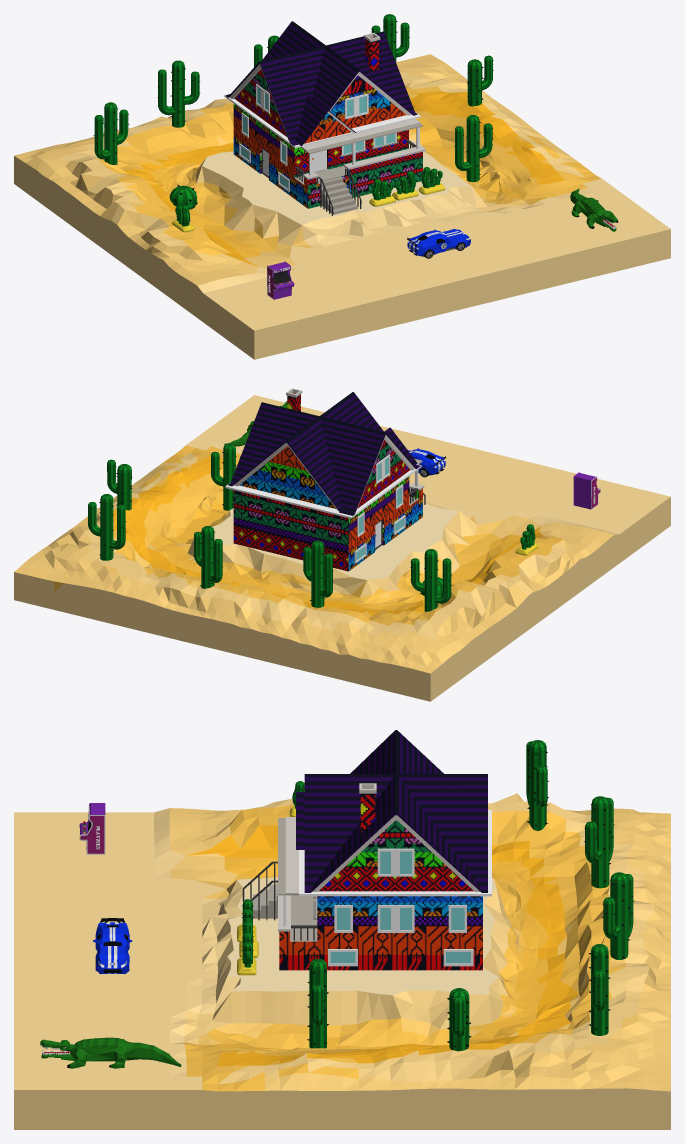
3 renders of one model, top to bottom at view 1: azimuth 30°, elevation 25°; view 2: azimuth 150°, elevation 25°; view 3: azimuth 270°, elevation 25°, orthographic. The views are drawn at different scales.
Parts seen in each view (by area): view 1: Cube.001, Cube.966, Cylinder.037, Cylinder.044, Cylinder.045, VEHICLES_RACING_CAR, ANIMAL_COCODRILO, Cylinder.038, Cylinder.042, OBJRANDOM_ARCADE, Cylinder.039, Cylinder.041 (+2 smaller); view 2: Cube.001, Cube.966, Cylinder.042, Cylinder.045, Cylinder.044, Cylinder.043, Cylinder.037, Cylinder.038, OBJRANDOM_ARCADE, VEHICLES_RACING_CAR; view 3: Cube.001, Cube.966, ANIMAL_COCODRILO, Cylinder.043, Cylinder.044, VEHICLES_RACING_CAR, Cylinder.045, Cylinder.042, Cylinder.037, Cylinder.038, OBJRANDOM_ARCADE, Cylinder.041.
Boxes of the visible parts, bbox=[...] form: Cube.001: bbox=[14, 54, 670, 359]; Cube.966: bbox=[224, 21, 425, 215]; Cylinder.037: bbox=[454, 115, 493, 182]; Cylinder.044: bbox=[157, 60, 200, 127]; Cylinder.045: bbox=[93, 102, 129, 164]; VEHICLES_RACING_CAR: bbox=[407, 229, 470, 258]; ANIMAL_COCODRILO: bbox=[570, 188, 618, 231]; Cylinder.038: bbox=[467, 55, 493, 106]; Cylinder.042: bbox=[371, 14, 409, 62]; OBJRANDOM_ARCADE: bbox=[267, 261, 294, 299]; Cylinder.039: bbox=[369, 179, 395, 206]; Cylinder.041: bbox=[418, 167, 445, 194]; Cube.001: bbox=[14, 395, 670, 701]; Cube.966: bbox=[225, 388, 425, 571]; Cylinder.042: bbox=[88, 494, 126, 560]; Cylinder.045: bbox=[410, 549, 452, 611]; Cylinder.044: bbox=[303, 540, 333, 607]; Cylinder.043: bbox=[193, 526, 222, 588]; Cylinder.037: bbox=[211, 444, 240, 510]; Cylinder.038: bbox=[107, 459, 131, 510]; OBJRANDOM_ARCADE: bbox=[573, 472, 600, 509]; VEHICLES_RACING_CAR: bbox=[408, 448, 445, 477]; Cube.001: bbox=[14, 793, 670, 1129]; Cube.966: bbox=[242, 730, 491, 970]; ANIMAL_COCODRILO: bbox=[40, 1037, 181, 1068]; Cylinder.043: bbox=[602, 872, 634, 959]; Cylinder.044: bbox=[584, 796, 614, 888]; VEHICLES_RACING_CAR: bbox=[93, 918, 132, 974]; Cylinder.045: bbox=[526, 740, 549, 830]; Cylinder.042: bbox=[588, 944, 610, 1035]; Cylinder.037: bbox=[307, 959, 329, 1048]; Cylinder.038: bbox=[447, 988, 471, 1051]; OBJRANDOM_ARCADE: bbox=[79, 803, 105, 854]; Cylinder.041: bbox=[237, 932, 256, 975].
Size of the model in its own units: 4002 by 1627 by 4001.
Materials: 43 (6 with a texture image).
